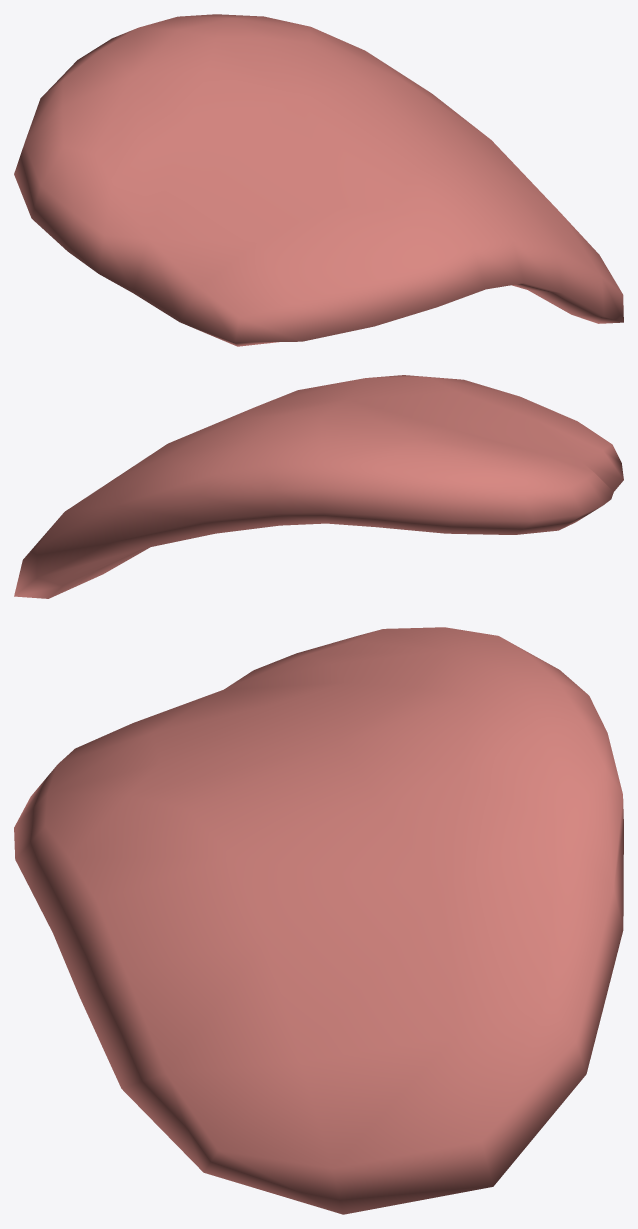
3 views of the same model, one above another, from view 1: azimuth 30°, elevation 25°; view 2: azimuth 150°, elevation 25°; view 3: azimuth 270°, elevation 25° (orthographic). The views are drawn at different scales.
Parts seen in each view (by area): view 1: ZA_de110f775ce7f15d; view 2: ZA_de110f775ce7f15d; view 3: ZA_de110f775ce7f15d.
Part boxes in pixels (box(x1,y1,x2,y2)): ZA_de110f775ce7f15d: box(14, 14, 623, 346); ZA_de110f775ce7f15d: box(14, 375, 623, 598); ZA_de110f775ce7f15d: box(14, 627, 623, 1214).
Size of the model in its own units: 0.0042 by 0.00205 by 0.0034.
